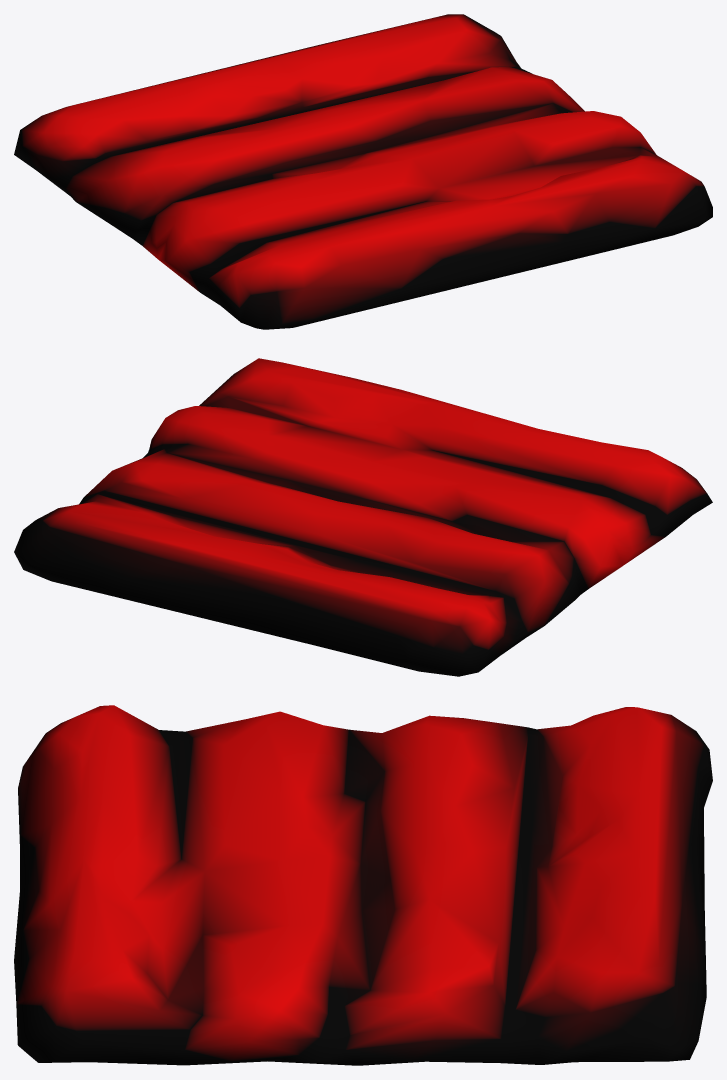
The model's file is SM_SoilPatch4.fbx.
3 renders of one model, top to bottom at view 1: azimuth 30°, elevation 25°; view 2: azimuth 150°, elevation 25°; view 3: azimuth 270°, elevation 25°, orthographic. The views are drawn at different scales.
Visible parts, largest first — view 1: SM_SoilPatch4; view 2: SM_SoilPatch4; view 3: SM_SoilPatch4.
Part boxes in pixels (x1=…): SM_SoilPatch4: x1=14, y1=14, x2=712, y2=329; SM_SoilPatch4: x1=14, y1=358, x2=712, y2=676; SM_SoilPatch4: x1=14, y1=705, x2=712, y2=1065.
Bounding box in the file's own units: 1.39 × 0.1575 × 1.29.
